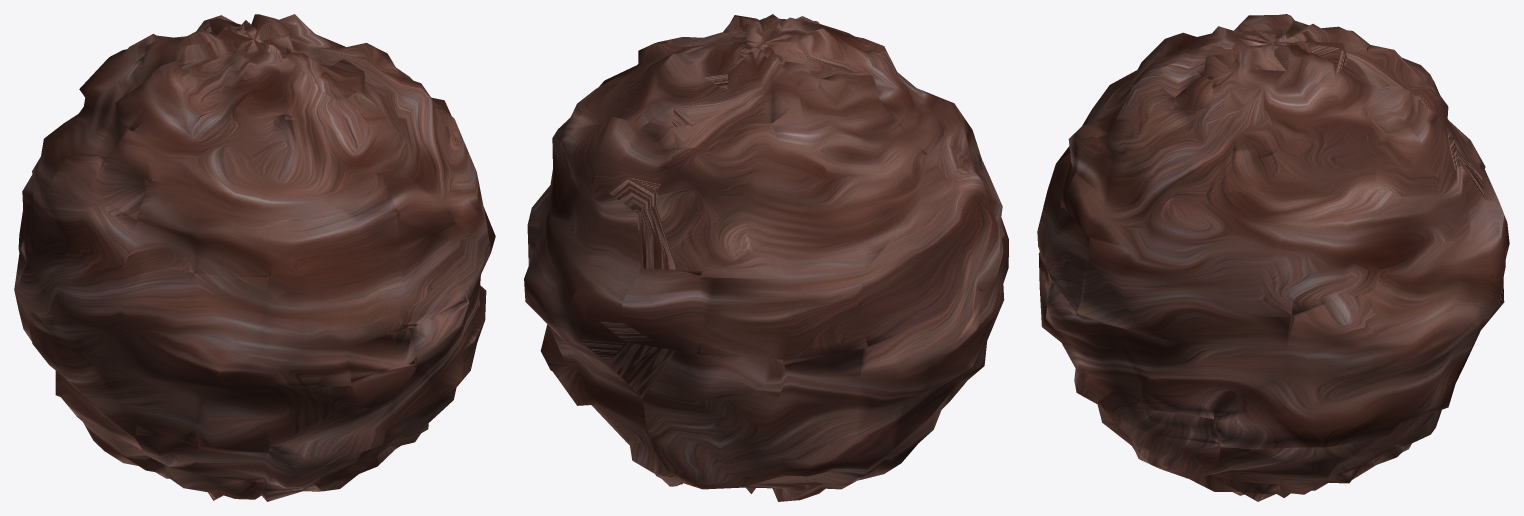
The model's file is mud.fbx.
3 renders of one model, left to right at view 1: azimuth 30°, elevation 25°; view 2: azimuth 150°, elevation 25°; view 3: azimuth 270°, elevation 25°, orthographic.
Visible parts, largest first — view 1: mud; view 2: mud; view 3: mud.
Part boxes in pixels (x1=…): mud: x1=14, y1=14, x2=495, y2=501; mud: x1=524, y1=14, x2=1008, y2=501; mud: x1=1037, y1=14, x2=1509, y2=501.
Size of the model in its own units: 2.09 by 2.15 by 2.08.
